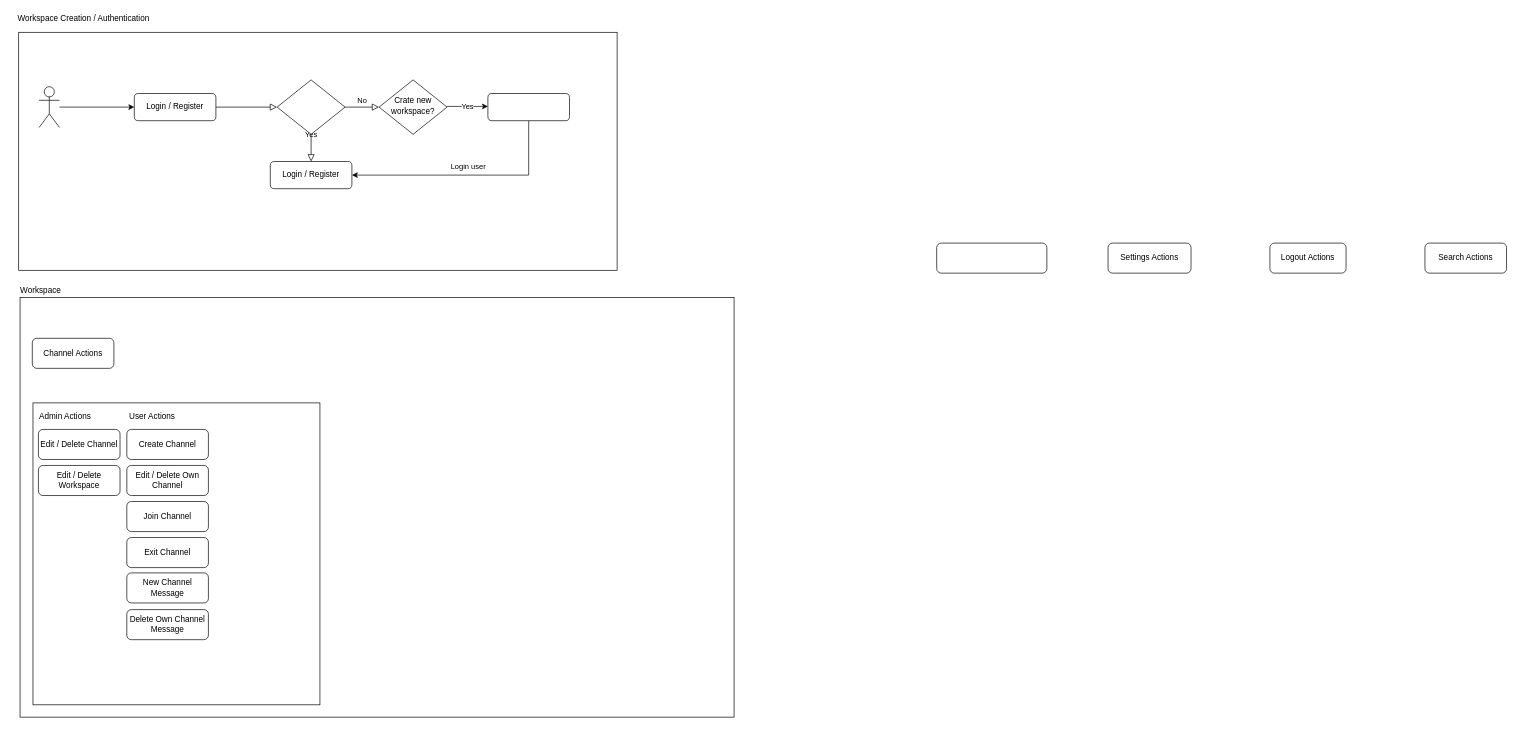
This 1518x751 diagram has some shape labels left out. Here are the shapes that lost their labels. From the top down, the centre of each, then its label:
the point at 49,107: User
the point at 310,106: Workspace exists?
the point at 528,107: Create workspace
the point at 991,257: Private Message Actions
